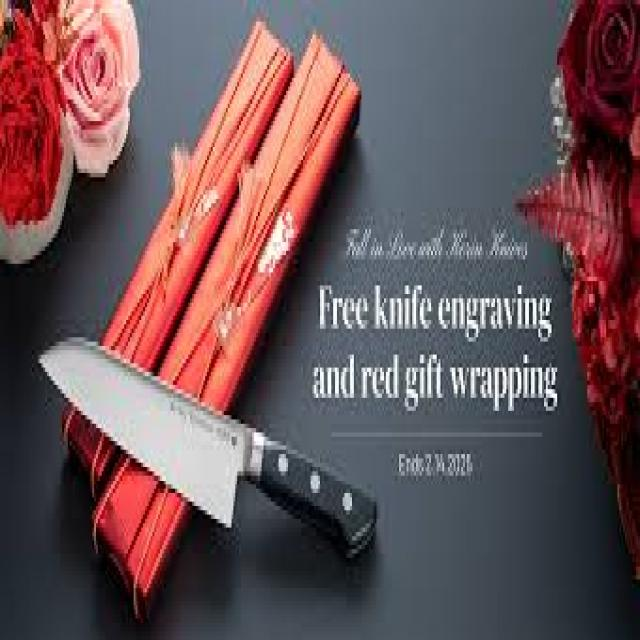Knife: (38, 333, 376, 558)
